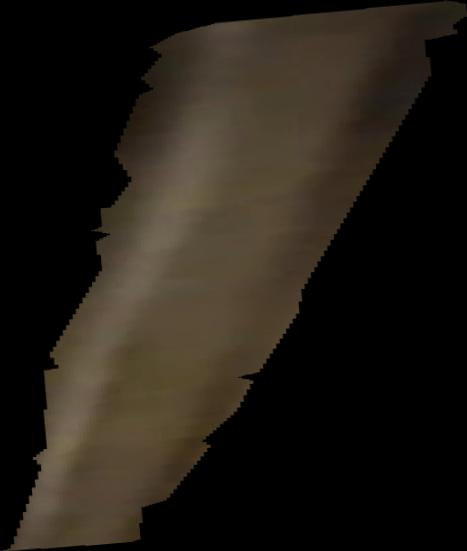backward: (1, 1, 467, 551)
